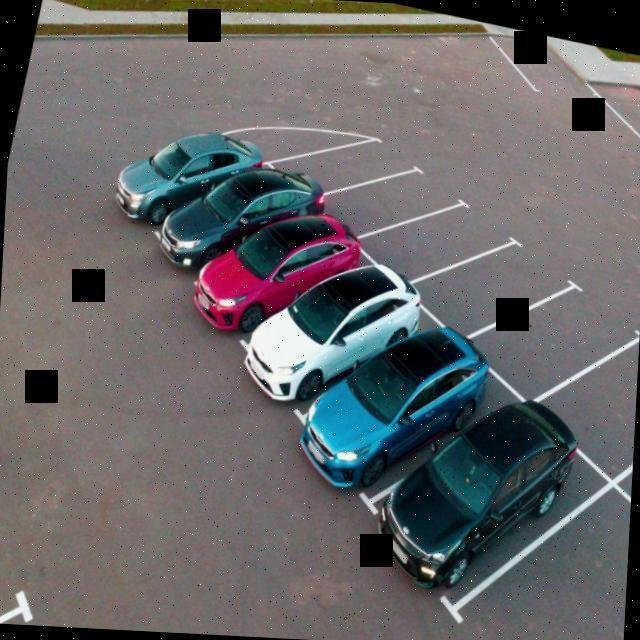Car: (368, 374, 580, 610), (310, 308, 494, 522), (240, 242, 421, 442), (192, 186, 358, 358), (140, 148, 306, 306), (110, 118, 240, 255)
Vacant: (456, 466, 632, 640), (463, 263, 640, 410), (412, 218, 578, 344), (359, 173, 515, 294), (542, 318, 640, 478), (332, 142, 448, 256), (281, 101, 400, 211)
